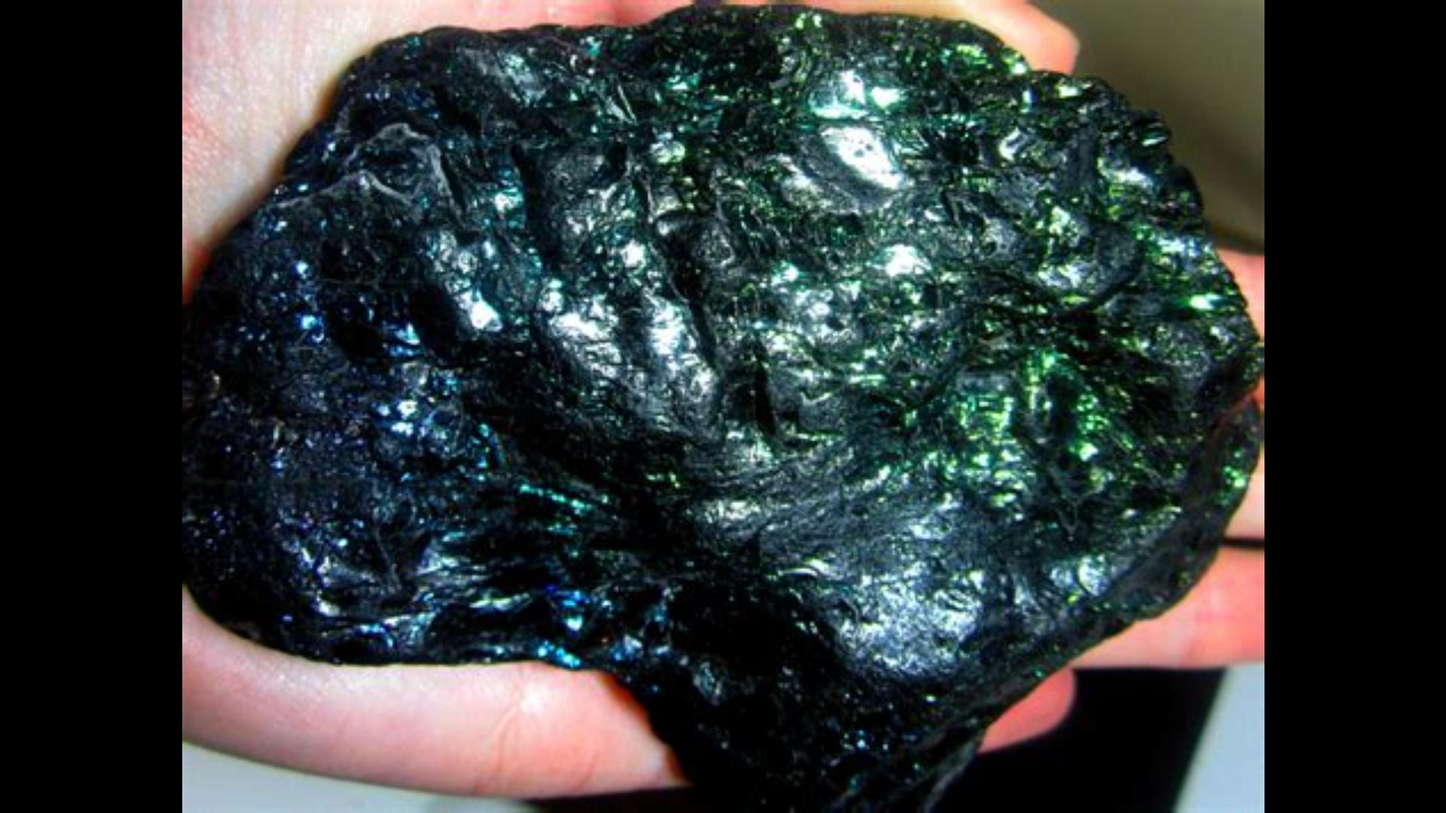rock: (182, 7, 1262, 806)
